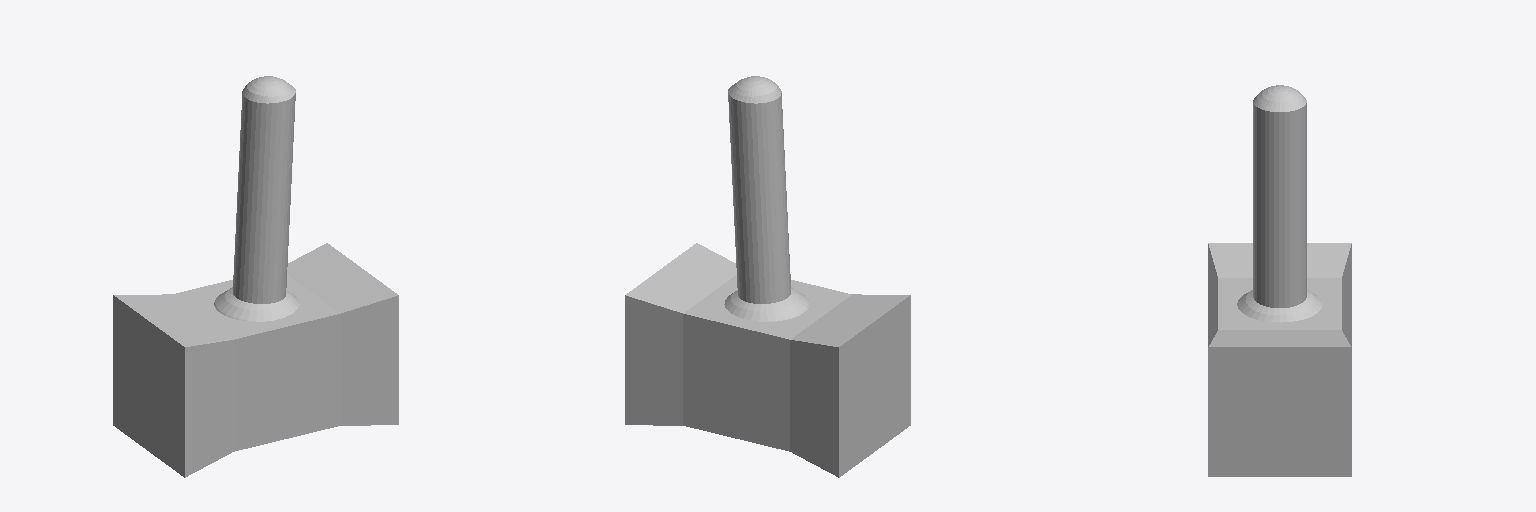
The model's file is Hammer.obj.
3 renders of one model, left to right at view 1: azimuth 30°, elevation 25°; view 2: azimuth 150°, elevation 25°; view 3: azimuth 270°, elevation 25°, orthographic.
Visible parts, largest first — view 1: Куб, Сфера, Сфера.001_Сфера.004; view 2: Куб, Сфера, Сфера.001_Сфера.004; view 3: Куб, Сфера, Сфера.001_Сфера.004.
Part boxes in pixels (x1,y1,x2,y2): Куб: (113,243,398,477); Сфера: (233,76,295,303); Сфера.001_Сфера.004: (214,287,299,321); Куб: (625,243,910,477); Сфера: (728,76,790,303); Сфера.001_Сфера.004: (724,287,809,321); Куб: (1208,243,1351,476); Сфера: (1253,85,1306,307); Сфера.001_Сфера.004: (1237,290,1322,322).
Size of the model in its own units: 4 by 6.2 by 2.33.